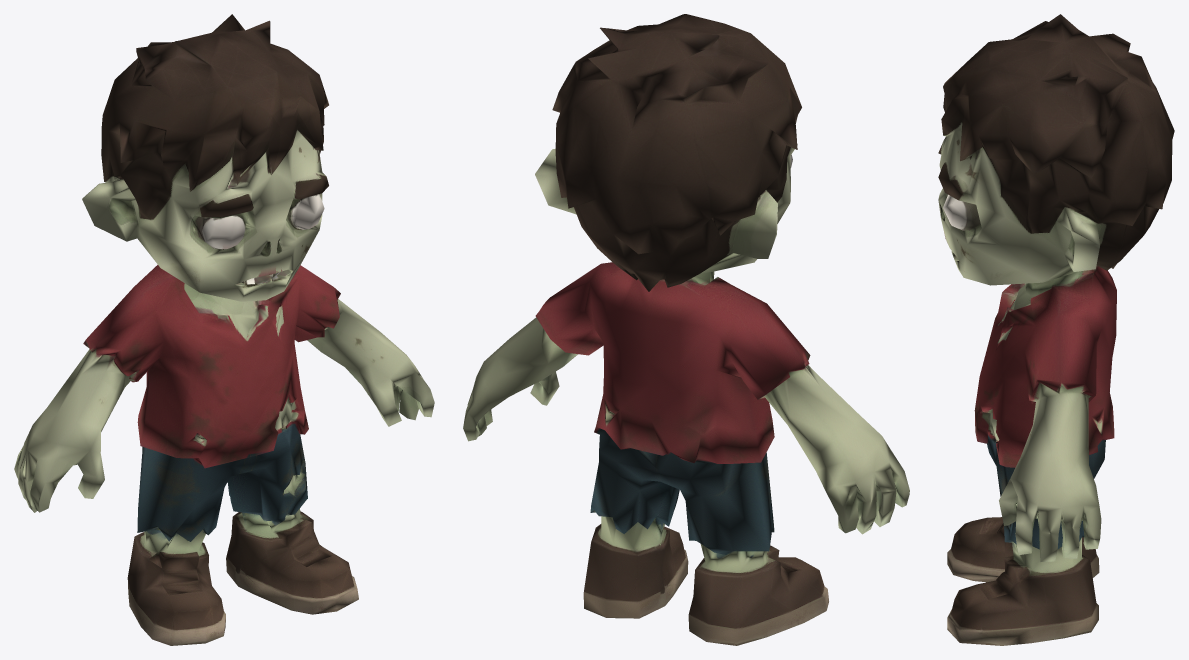
Rendered from BasicZombie.fbx.
The picture shows the model from 3 angles, left to right: view 1: azimuth 30°, elevation 25°; view 2: azimuth 150°, elevation 25°; view 3: azimuth 270°, elevation 25°; orthographic projection. The views are drawn at different scales.
Parts seen in each view (by area): view 1: mesh_node; view 2: mesh_node; view 3: mesh_node.
Part boxes in pixels (bbox=[...]): mesh_node: bbox=[14, 14, 434, 645]; mesh_node: bbox=[463, 14, 909, 645]; mesh_node: bbox=[938, 14, 1174, 645].
Size of the model in its own units: 143 by 190 by 72.2.
Materials: 1 (1 with a texture image).
